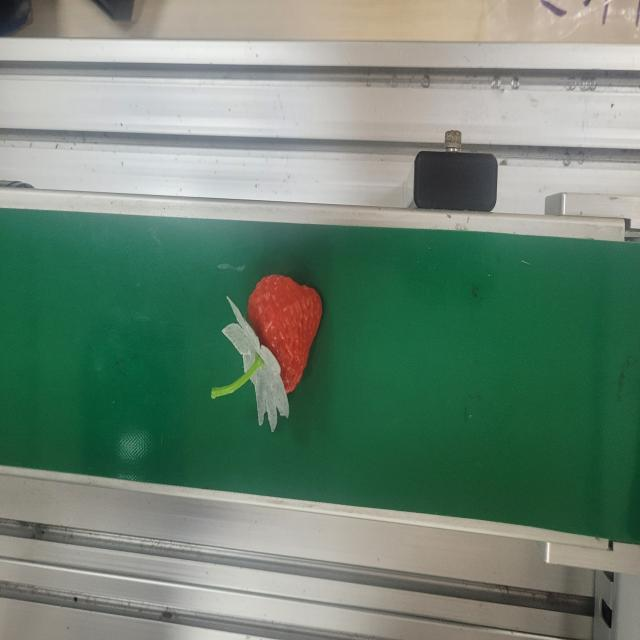Small Ripe Strawberry: (231, 270, 324, 406)
